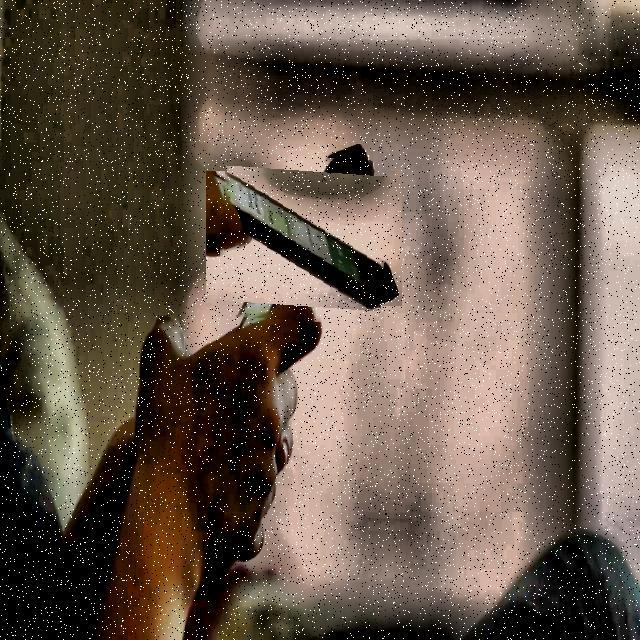Phone: (218, 153, 389, 324)
